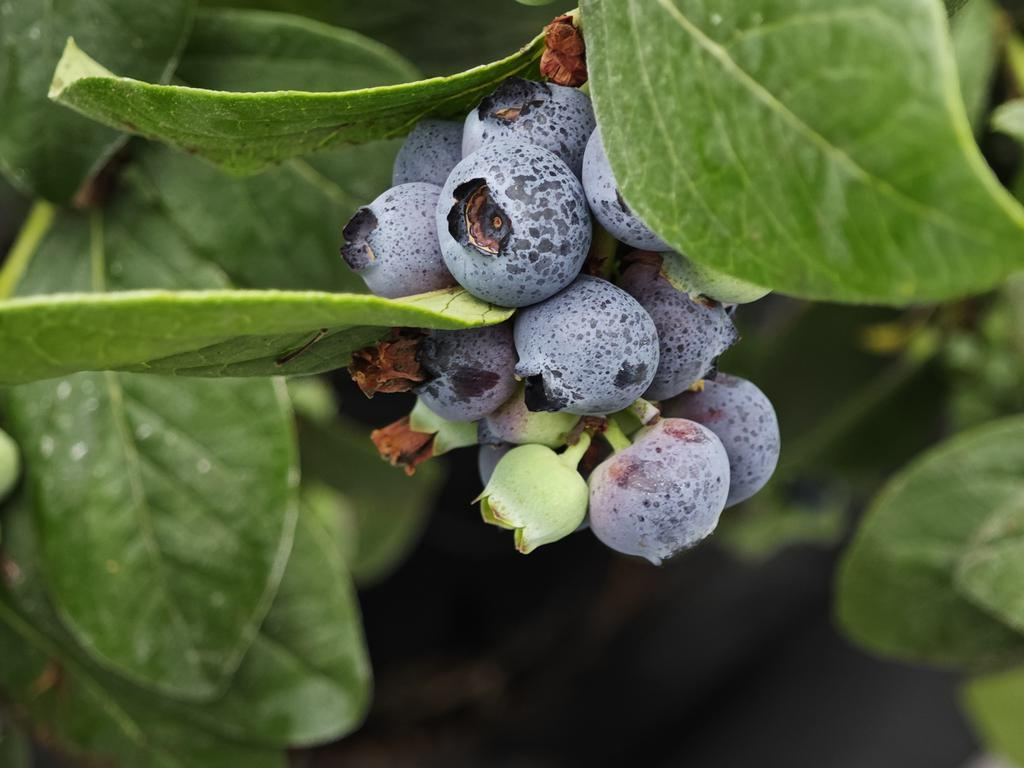RipeBlueBerry: (438, 137, 591, 304), (513, 280, 660, 411)
